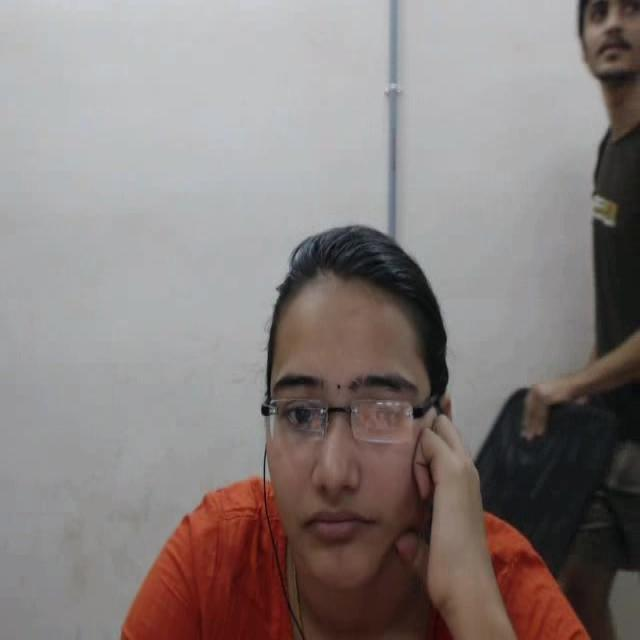Bored: (248, 218, 462, 614)
